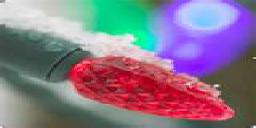LED: (71, 55, 240, 122)
